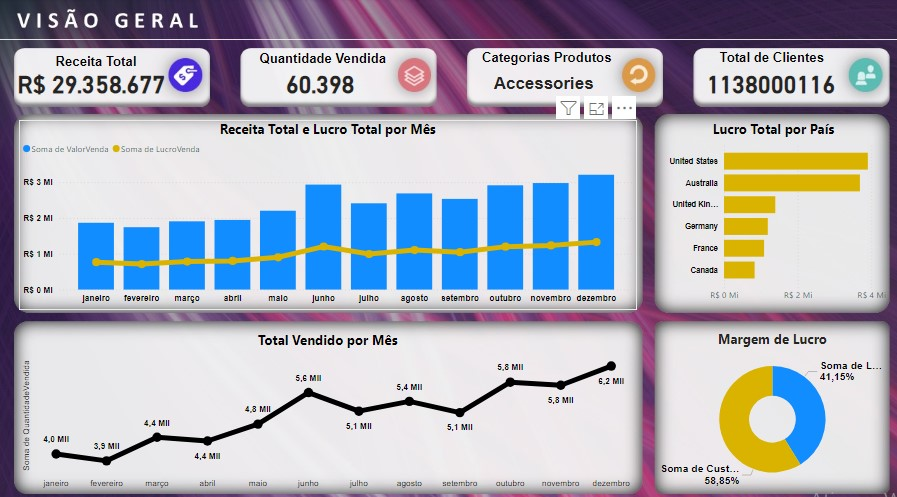

The page's visual inventory and layout, read from the dashboard file:
{"tool":"powerbi","page":{"name":"Página 2","canvas":[1280,720],"ordinal":1},"visuals":[{"type":"card","fields":{"Values":["Sum(vw_AnaliseVendas.QuantidadeVendida)"]},"box":[351.7,82.2,210,76.7],"z":0},{"type":"textbox","box":[358.3,70,203.3,38.3],"z":1000},{"type":"card","fields":{"Values":["Sum(vw_AnaliseVendas.ValorVenda)"]},"box":[21,82.1,221.4,76.8],"z":2000},{"type":"textbox","box":[39.9,73.9,198.3,38.3],"z":3000},{"type":"lineClusteredColumnComboChart","title":"Receita Total e Lucro Total por Mês","fields":{"Y":["Sum(vw_AnaliseVendas.ValorVenda)"],"Category":["vw_AnaliseVendas.DataPedido.Variation.Hierarquia de datas.Mês"],"Y2":["Sum(vw_AnaliseVendas.LucroVenda)"]},"box":[30,173.3,875,268.3],"z":4000},{"type":"clusteredBarChart","title":"Lucro Total por País","fields":{"Category":["vw_AnaliseVendas.PaisCliente"],"Y":["Sum(vw_AnaliseVendas.LucroVenda)"]},"box":[933.3,173.3,330,266.7],"z":5000},{"type":"lineChart","title":"Total Vendido por Mês","fields":{"Category":["vw_AnaliseVendas.DataPedido.Variation.Hierarquia de datas.Mês"],"Y":["Sum(vw_AnaliseVendas.QuantidadeVendida)"]},"box":[30.4,471.4,875,232.1],"z":6000},{"type":"donutChart","title":"Margem de Lucro","fields":{"Y":["Sum(vw_AnaliseVendas.LucroVenda)","Sum(vw_AnaliseVendas.CustoVenda)"]},"box":[933,471,330,232],"z":7000},{"type":"textbox","box":[994.6,67.9,203.6,37.5],"z":8000},{"type":"textbox","box":[675.7,67.9,203.3,38.3],"z":9000},{"type":"card","fields":{"Values":["Min(vw_AnaliseVendas.CategoriaProduto)"]},"box":[669.6,82.1,208.9,76.8],"z":10000},{"type":"card","fields":{"Values":["Sum(vw_AnaliseVendas.IDCliente)"]},"box":[991.1,82.1,208.9,76.8],"z":11000}]}

Visuals, with their boxes in screenshot pixels (x1, y1, x2, y2), scaled from the page's 1280x720 canvas onto the 897x497 screenshot:
card - Sum(vw_AnaliseVendas.QuantidadeVendida): x1=246 y1=57 x2=394 y2=110
textbox: x1=251 y1=48 x2=394 y2=75
card - Sum(vw_AnaliseVendas.ValorVenda): x1=15 y1=57 x2=170 y2=110
textbox: x1=28 y1=51 x2=167 y2=77
"Receita Total e Lucro Total por Mês" lineClusteredColumnComboChart: x1=21 y1=120 x2=634 y2=305
"Lucro Total por País" clusteredBarChart: x1=654 y1=120 x2=885 y2=304
"Total Vendido por Mês" lineChart: x1=21 y1=325 x2=634 y2=486
"Margem de Lucro" donutChart: x1=654 y1=325 x2=885 y2=485
textbox: x1=697 y1=47 x2=840 y2=73
textbox: x1=474 y1=47 x2=616 y2=73
card - Min(vw_AnaliseVendas.CategoriaProduto): x1=469 y1=57 x2=616 y2=110
card - Sum(vw_AnaliseVendas.IDCliente): x1=695 y1=57 x2=841 y2=110
